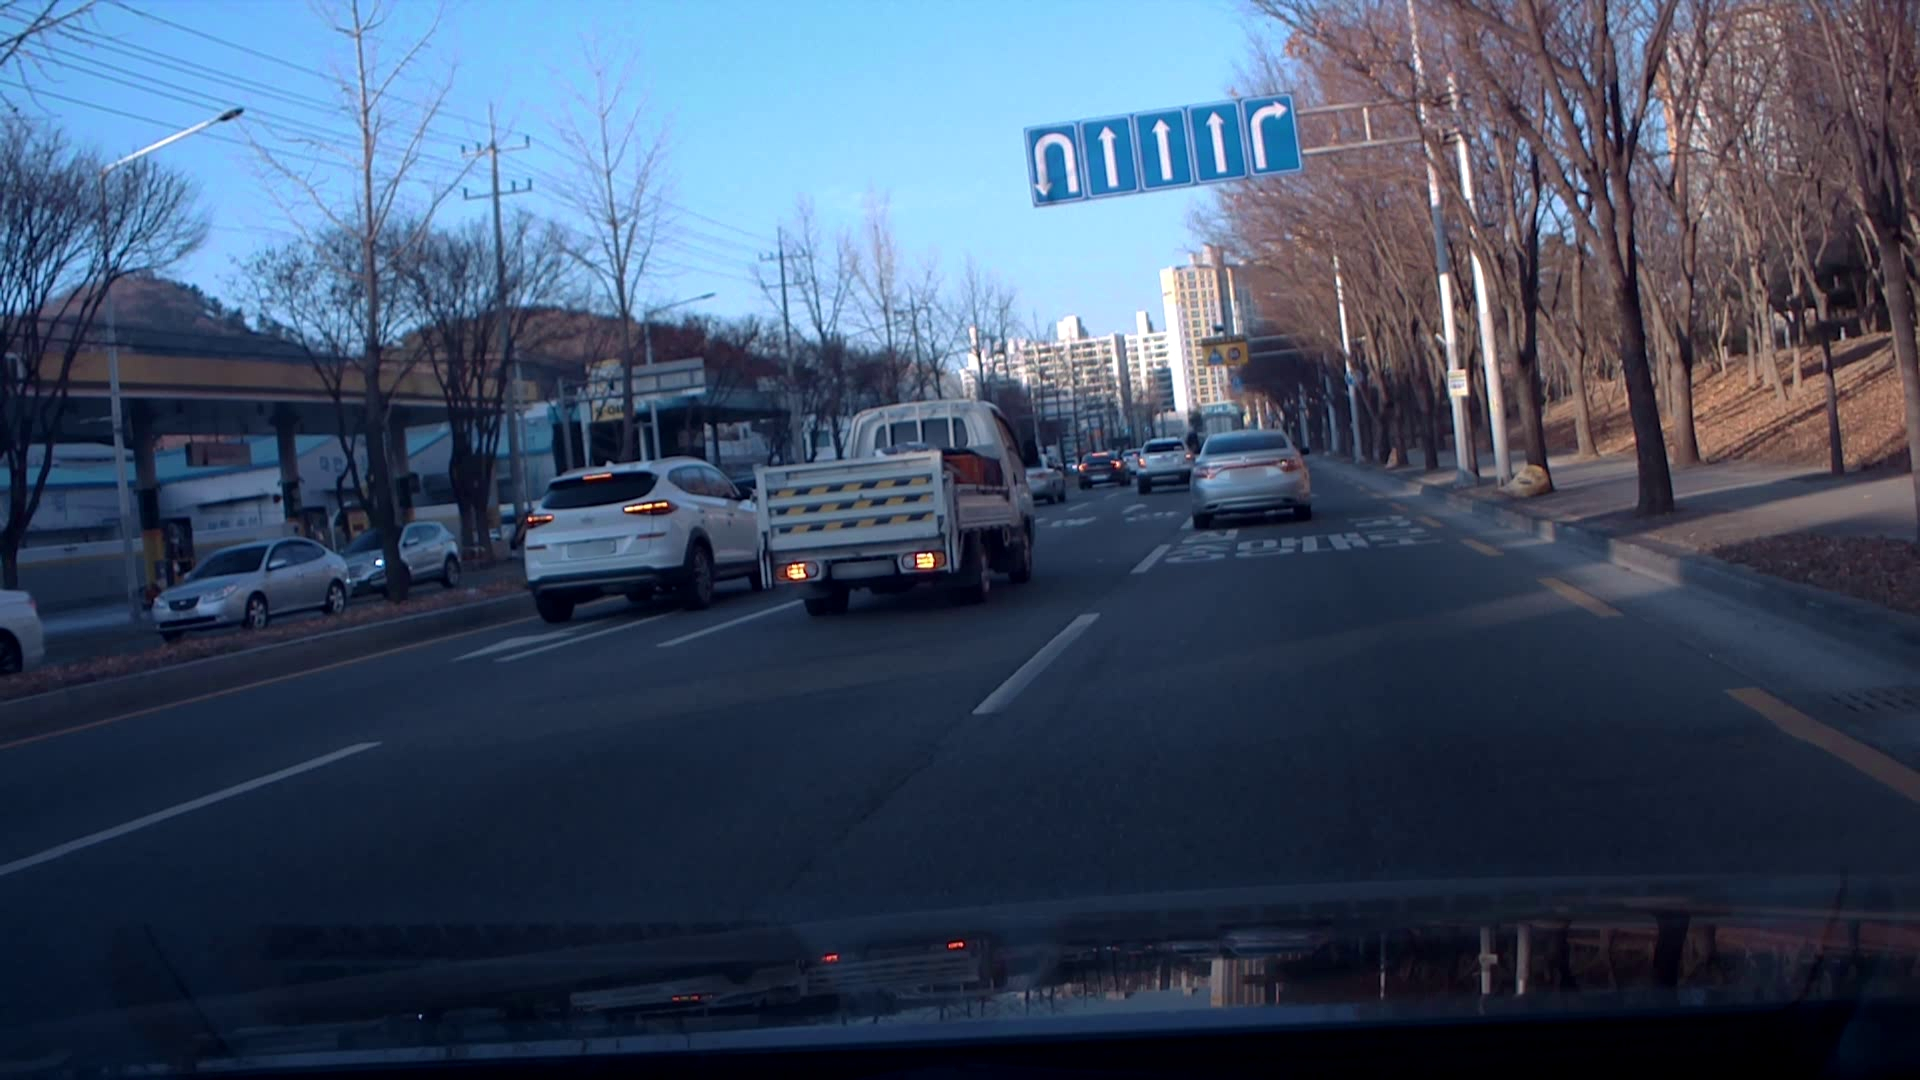trafficSignRTG: (1023, 90, 1304, 214), (1200, 336, 1253, 371)
